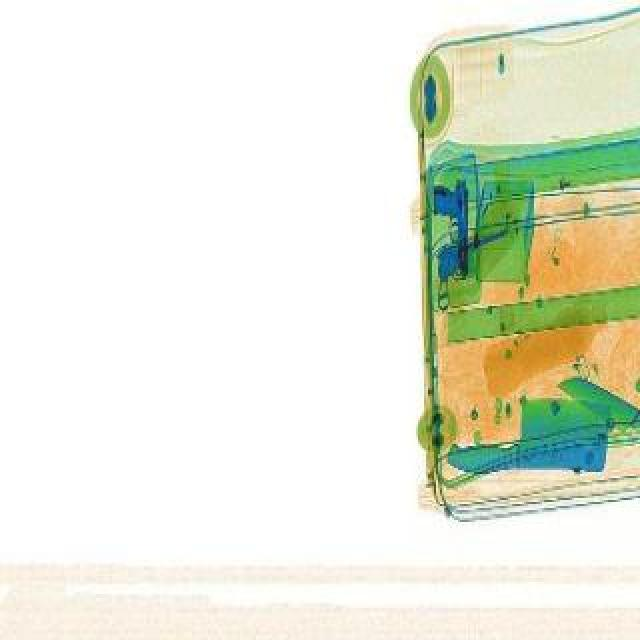gun: (422, 228, 526, 312), (434, 174, 470, 274)
knife: (440, 394, 612, 476), (552, 364, 640, 432)
